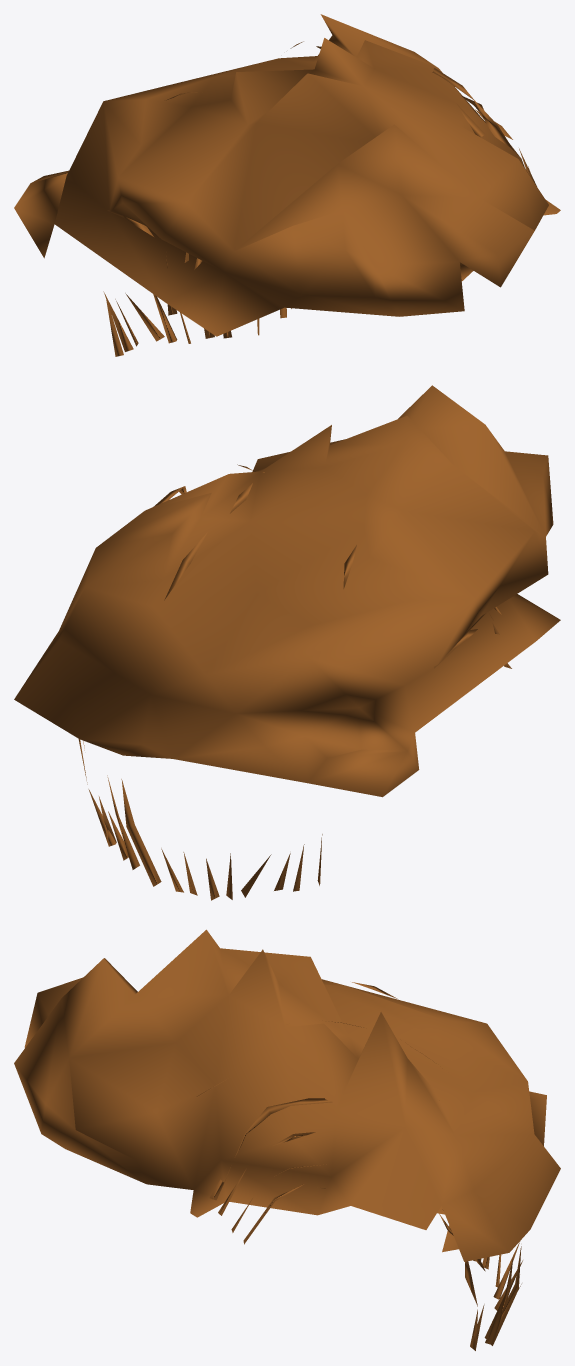
The model's file is quiff.glb.
3 views of the same model, one above another, from view 1: azimuth 30°, elevation 25°; view 2: azimuth 150°, elevation 25°; view 3: azimuth 270°, elevation 25° (orthographic). The views are drawn at different scales.
Parts seen in each view (by area): view 1: Hair, HairPulledRootStrands; view 2: Hair, HairPulledRootStrands; view 3: Hair, HairPulledRootStrands.
Boxes of the visible parts, bbox=[...] form: Hair: bbox=[14, 14, 560, 336]; HairPulledRootStrands: bbox=[103, 41, 536, 356]; Hair: bbox=[14, 385, 560, 797]; HairPulledRootStrands: bbox=[78, 464, 511, 900]; Hair: bbox=[14, 929, 560, 1261]; HairPulledRootStrands: bbox=[197, 982, 522, 1350].
Bounding box in the file's own units: 0.4167 × 0.3999 × 0.5355.
